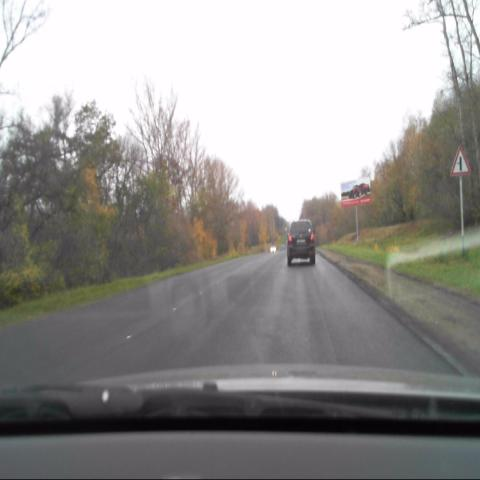2_3_3: (451, 146, 470, 177)
